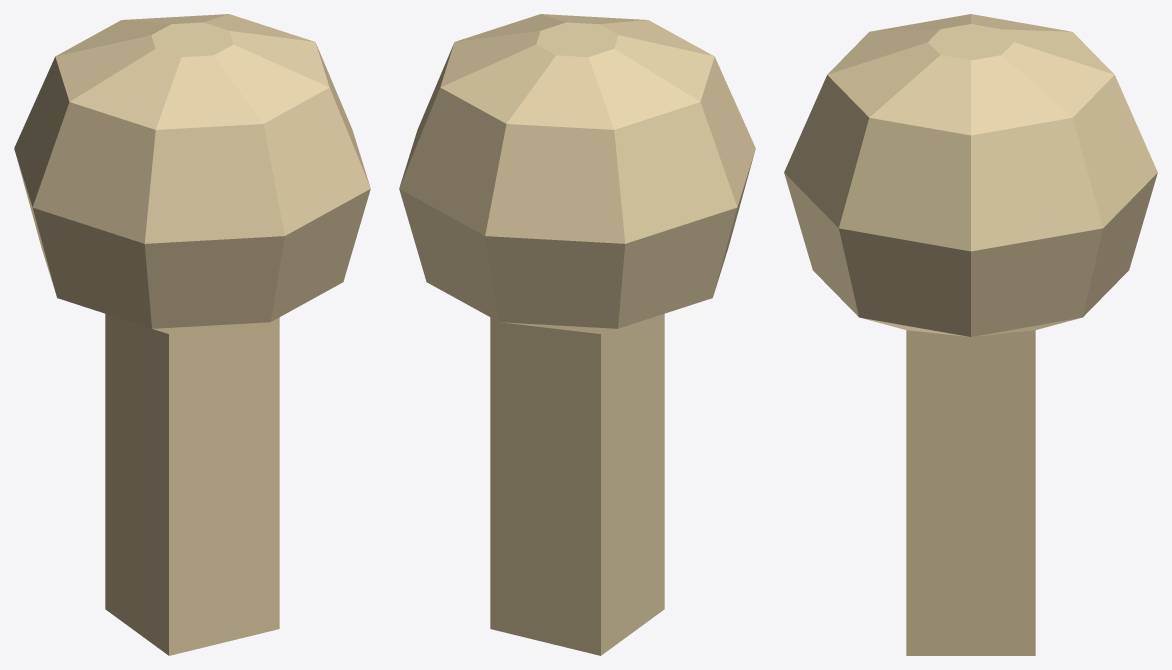
The model's file is prop-stop-knob-blank.fbx.
3 views of the same model, side by side, from view 1: azimuth 30°, elevation 25°; view 2: azimuth 150°, elevation 25°; view 3: azimuth 270°, elevation 25° (orthographic).
Visible parts, largest first — view 1: prop-stop-knob-blank; view 2: prop-stop-knob-blank; view 3: prop-stop-knob-blank.
Part boxes in pixels (x1,y1,x2,y2): prop-stop-knob-blank: (14, 14, 370, 655); prop-stop-knob-blank: (399, 14, 755, 655); prop-stop-knob-blank: (784, 14, 1157, 655).
Bounding box in the file's own units: 5.2 × 9 × 5.2.
